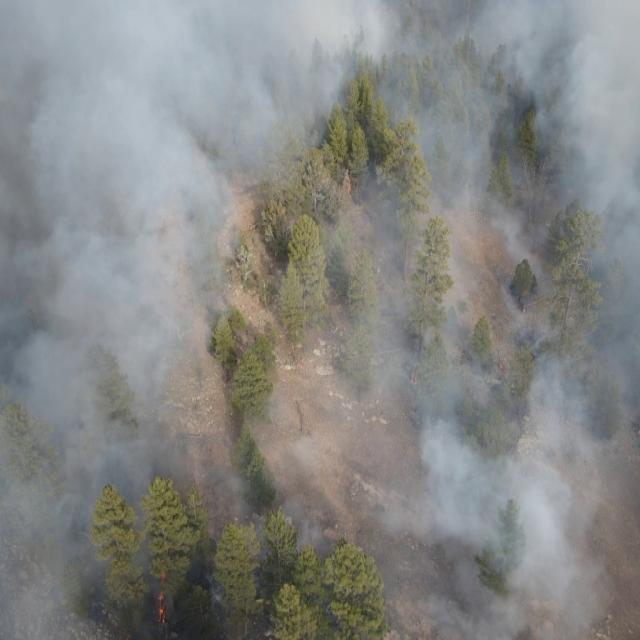fire: (151, 565, 183, 637), (402, 368, 425, 389), (492, 357, 515, 377)
smoke: (304, 184, 640, 547), (0, 0, 639, 182), (0, 184, 248, 483), (0, 482, 150, 640), (379, 544, 624, 640), (248, 249, 304, 543), (200, 486, 248, 606)
